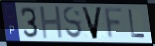3: (20, 6, 40, 40)
F: (104, 7, 125, 41)
H: (38, 5, 65, 41)
L: (127, 9, 147, 40)
S: (62, 6, 84, 41)
V: (80, 6, 104, 42)
